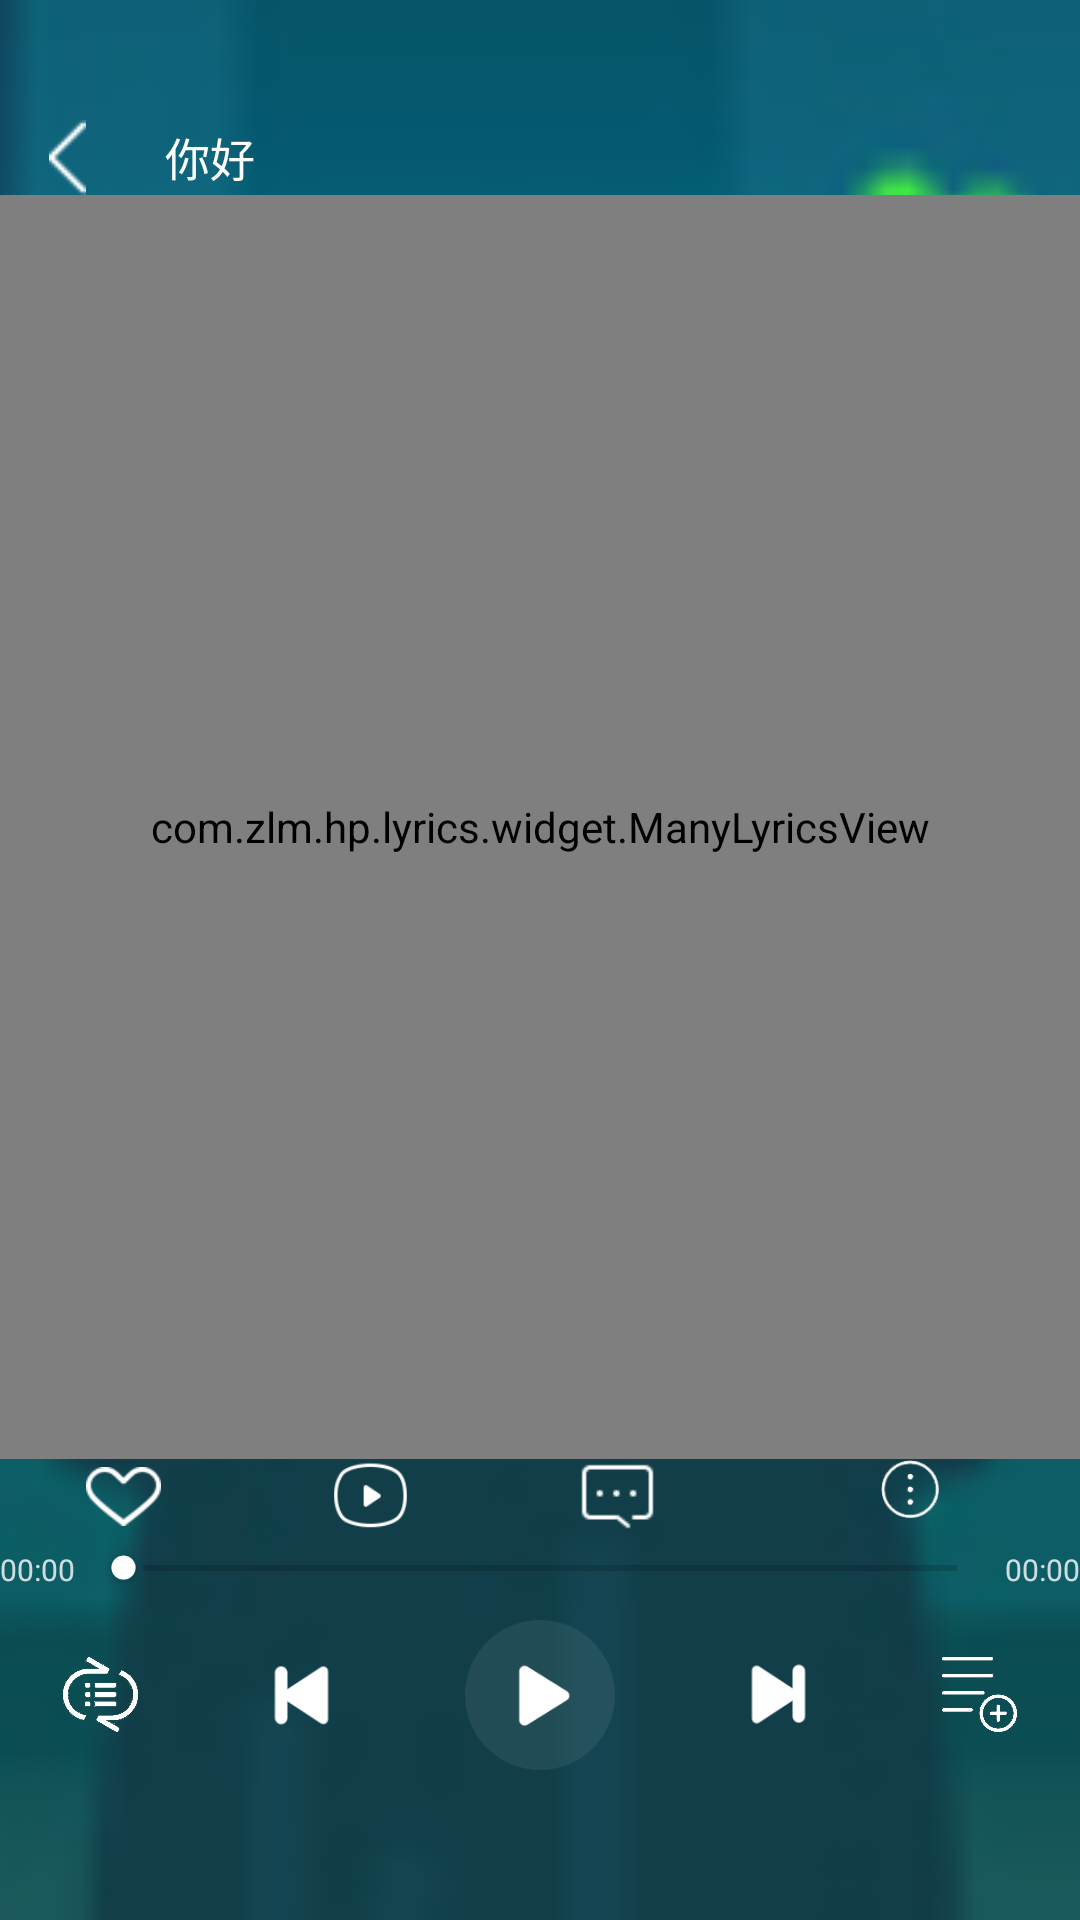

Point at icon controls on the screen. Image size 1080 x 1920, points as (x,y).
mv: (370,1495)
play back: (67,157)
playmusic comment: (617,1496)
playmusiclist: (979,1694)
playnext: (778,1694)
playplay: (544,1695)
playpre: (301,1695)
playset: (910,1489)
unlike: (123,1496)
